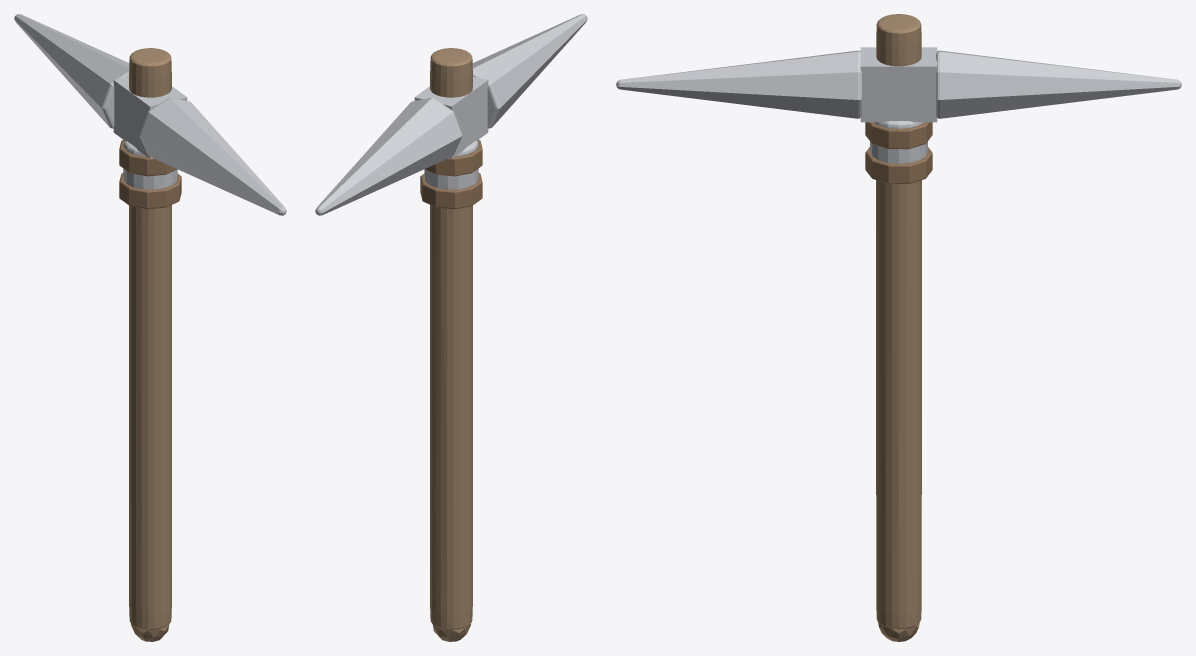
File: 13-Herramientas_pico_hierro.glb
3 views of the same model, side by side, from view 1: azimuth 30°, elevation 25°; view 2: azimuth 150°, elevation 25°; view 3: azimuth 270°, elevation 25° (orthographic). The views are drawn at different scales.
Parts seen in each view (by area): view 1: SM_PicoHierro_M_Madera_Mango, SM_PicoHierro_M_Hierro_Pico, SM_PicoHierro_M_Cuero_Atadura; view 2: SM_PicoHierro_M_Madera_Mango, SM_PicoHierro_M_Hierro_Pico, SM_PicoHierro_M_Cuero_Atadura; view 3: SM_PicoHierro_M_Hierro_Pico, SM_PicoHierro_M_Madera_Mango, SM_PicoHierro_M_Cuero_Atadura.
Part boxes in pixels (left/top/right/bottom): SM_PicoHierro_M_Madera_Mango: left=129, top=48, right=171, bottom=641; SM_PicoHierro_M_Hierro_Pico: left=14, top=14, right=286, bottom=215; SM_PicoHierro_M_Cuero_Atadura: left=119, top=139, right=181, bottom=209; SM_PicoHierro_M_Madera_Mango: left=430, top=48, right=472, bottom=641; SM_PicoHierro_M_Hierro_Pico: left=315, top=14, right=587, bottom=215; SM_PicoHierro_M_Cuero_Atadura: left=420, top=139, right=482, bottom=209; SM_PicoHierro_M_Hierro_Pico: left=616, top=47, right=1181, bottom=163; SM_PicoHierro_M_Madera_Mango: left=876, top=14, right=921, bottom=641; SM_PicoHierro_M_Cuero_Atadura: left=865, top=122, right=932, bottom=183.
Size of the model in its own units: 0.0946 by 0.8873 by 0.736.
